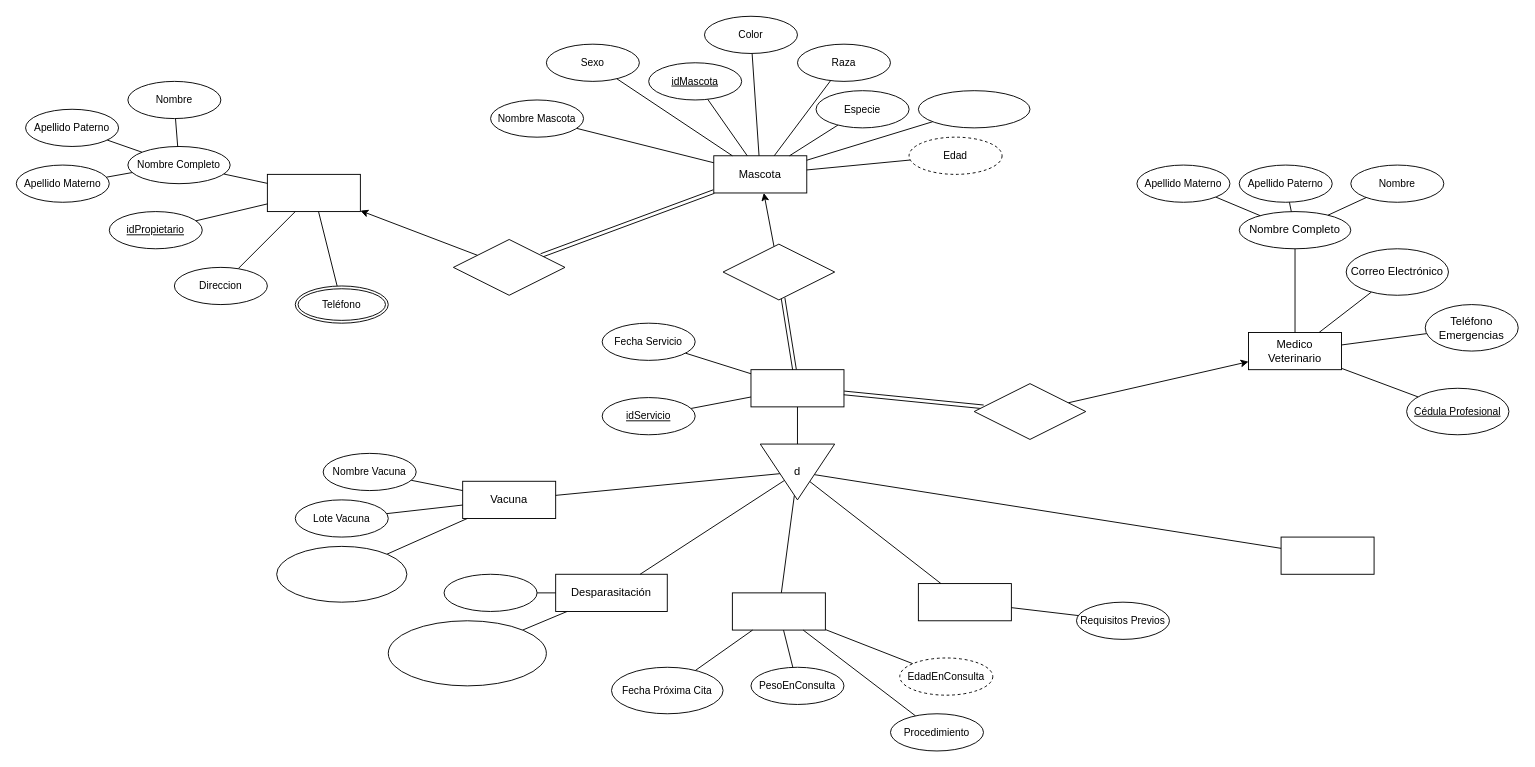
The diagram is 1535 pixels wide and 767 high, and some of its shapes have lost their labels. Each missing label, with the box of its shape:
Atender: (973, 383, 1086, 439)
Cirugía General: (917, 583, 1011, 621)
Consulta: (731, 592, 825, 630)
Esterilización: (1280, 536, 1374, 574)
Fecha Nacimiento: (917, 90, 1030, 128)
Fecha Próxima Desparasitación: (387, 620, 546, 686)
Fecha Próxima Vacuna: (276, 545, 407, 602)
Pertenece: (452, 239, 565, 295)
Producto y Dósis: (443, 573, 537, 611)
Propietario: (266, 173, 360, 212)
Recibir: (722, 243, 835, 300)
Servicio: (750, 369, 844, 407)
